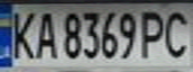3: (78, 8, 103, 60)
6: (100, 8, 121, 60)
8: (57, 8, 84, 60)
9: (115, 7, 142, 60)
A: (30, 8, 60, 61)
C: (160, 7, 193, 60)
K: (3, 7, 39, 61)
P: (136, 7, 172, 60)
